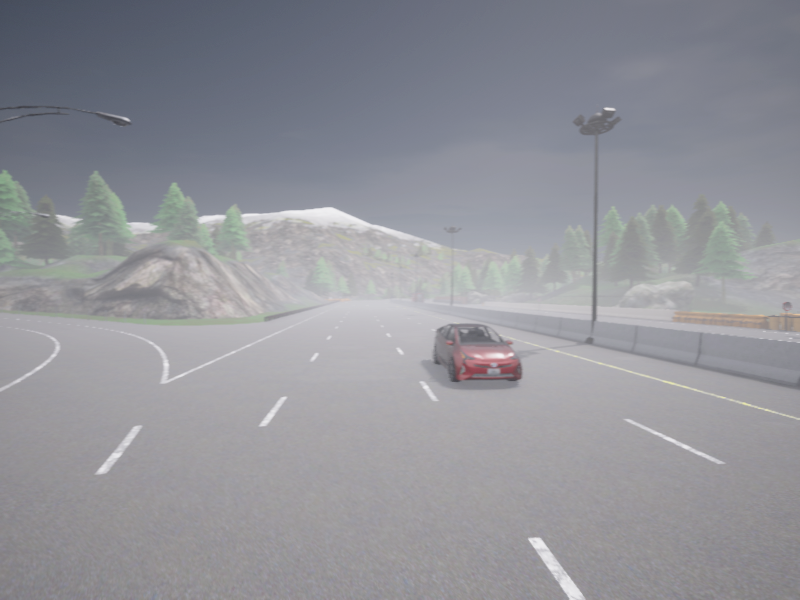vehicle: (433, 323, 521, 382), (411, 293, 423, 302), (425, 298, 429, 300)
